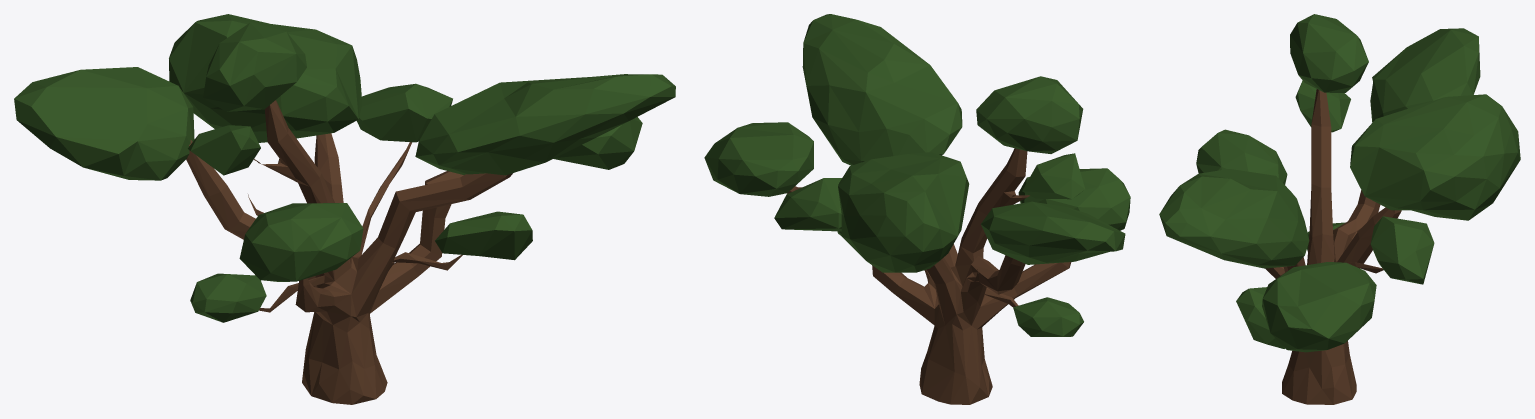
File: SM_tree_large.fbx
The picture shows the model from 3 angles, left to right: view 1: azimuth 30°, elevation 25°; view 2: azimuth 150°, elevation 25°; view 3: azimuth 270°, elevation 25°; orthographic projection. The views are drawn at different scales.
Visible parts, largest first — view 1: Object120; view 2: Object120; view 3: Object120.
Boxes of the visible parts, box(x1,y1,x2,y2) form: Object120: box(14, 14, 675, 404); Object120: box(704, 14, 1130, 404); Object120: box(1159, 14, 1520, 404).
Size of the model in its own units: 835 by 558 by 549.
